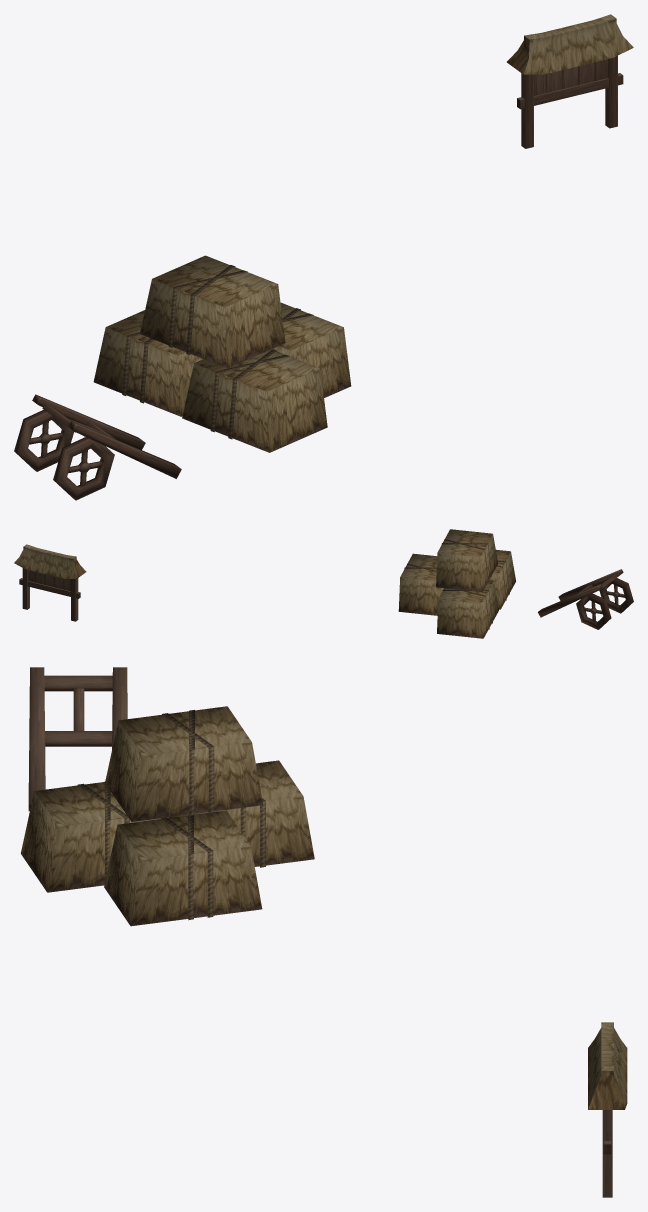
Rendered from xiaowujian11.fbx.
3 renders of one model, top to bottom at view 1: azimuth 30°, elevation 25°; view 2: azimuth 150°, elevation 25°; view 3: azimuth 270°, elevation 25°, orthographic. The views are drawn at different scales.
Visible parts, largest first — view 1: xiaowujian11; view 2: xiaowujian11; view 3: xiaowujian11.
Boxes of the visible parts, left/top/right/bottom form: xiaowujian11: left=14, top=14, right=633, bottom=500; xiaowujian11: left=14, top=529, right=633, bottom=638; xiaowujian11: left=21, top=667, right=627, bottom=1197.
Size of the model in its own units: 2262 by 322 by 1260.
